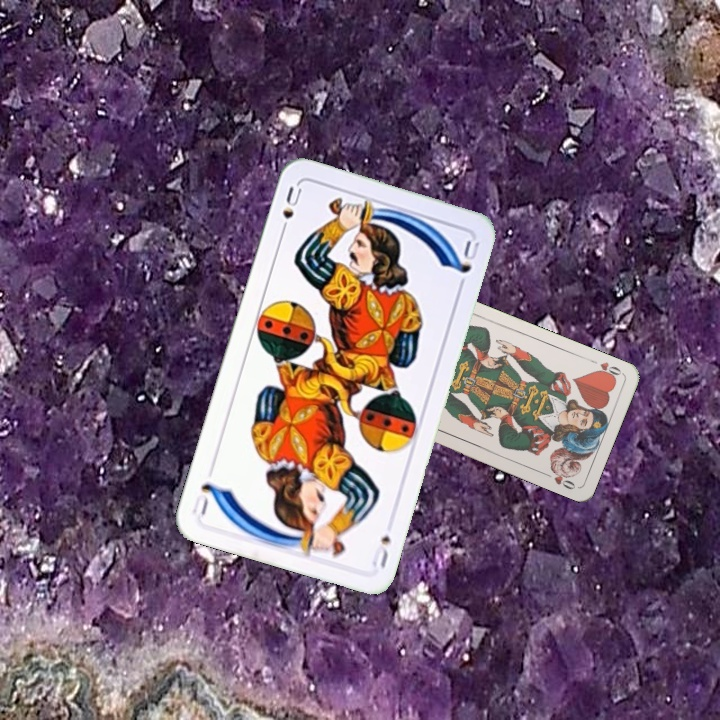HO: (586, 355, 625, 382)
SU: (276, 182, 305, 239), (371, 531, 393, 571)
